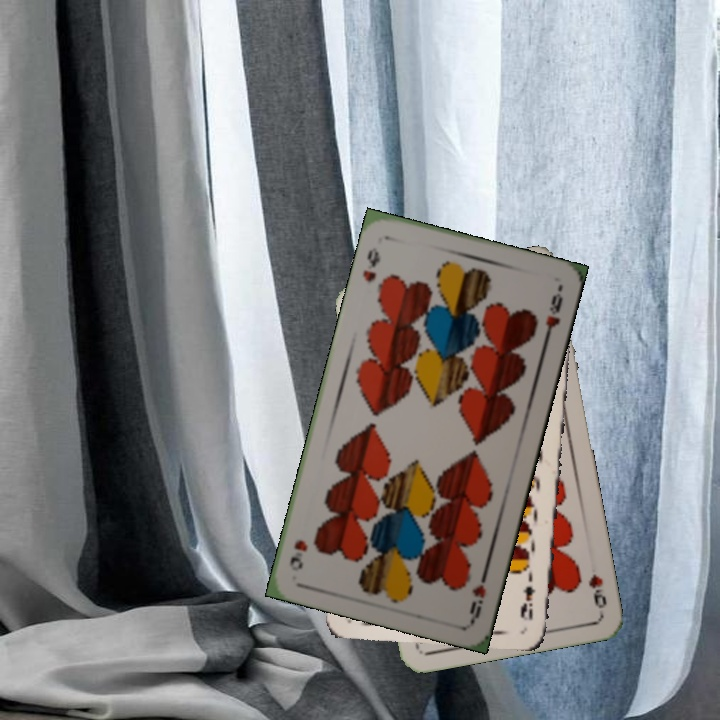E9: (517, 567, 537, 623)
H9: (465, 565, 491, 623), (358, 243, 383, 285), (584, 570, 609, 611)
